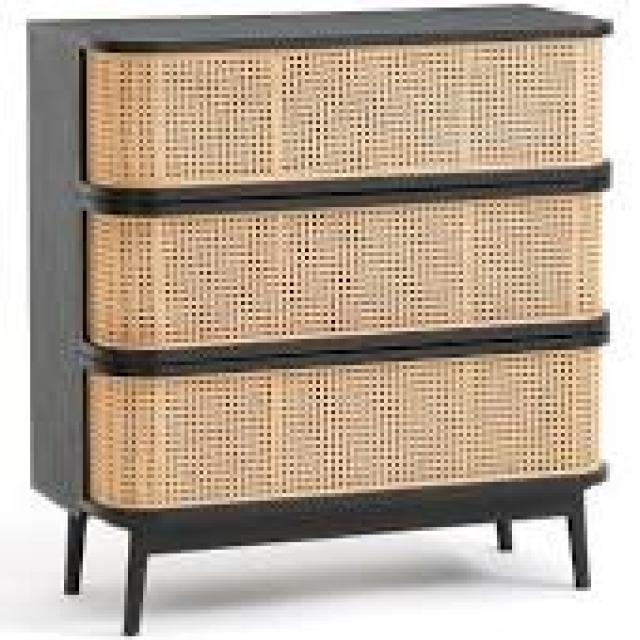mobile-phone: (20, 1, 620, 640)
